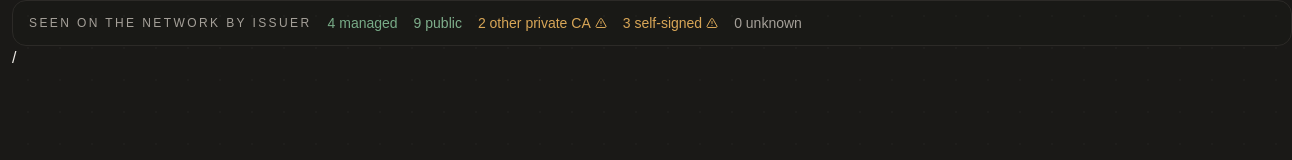
Scenario: TrustBreakdown › shows every class with its count and drills into the filtered inventory
Expected: the element with test id "trust-strip" shows "4 managed", 12,0 -> 1291,46
Expected: the element with test id "trust-strip" shows "9 public", 12,0 -> 1291,46
Click the button with test id "trust-private_other" at (542, 23), box 478,13 -> 607,33
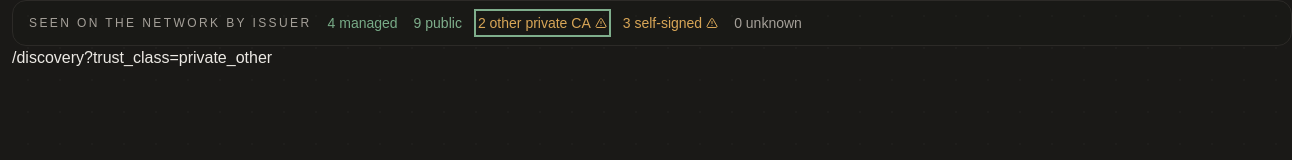
Expected: the text with test id "location" reads "/discovery?trust_class=private_other", 12,49 -> 272,66
